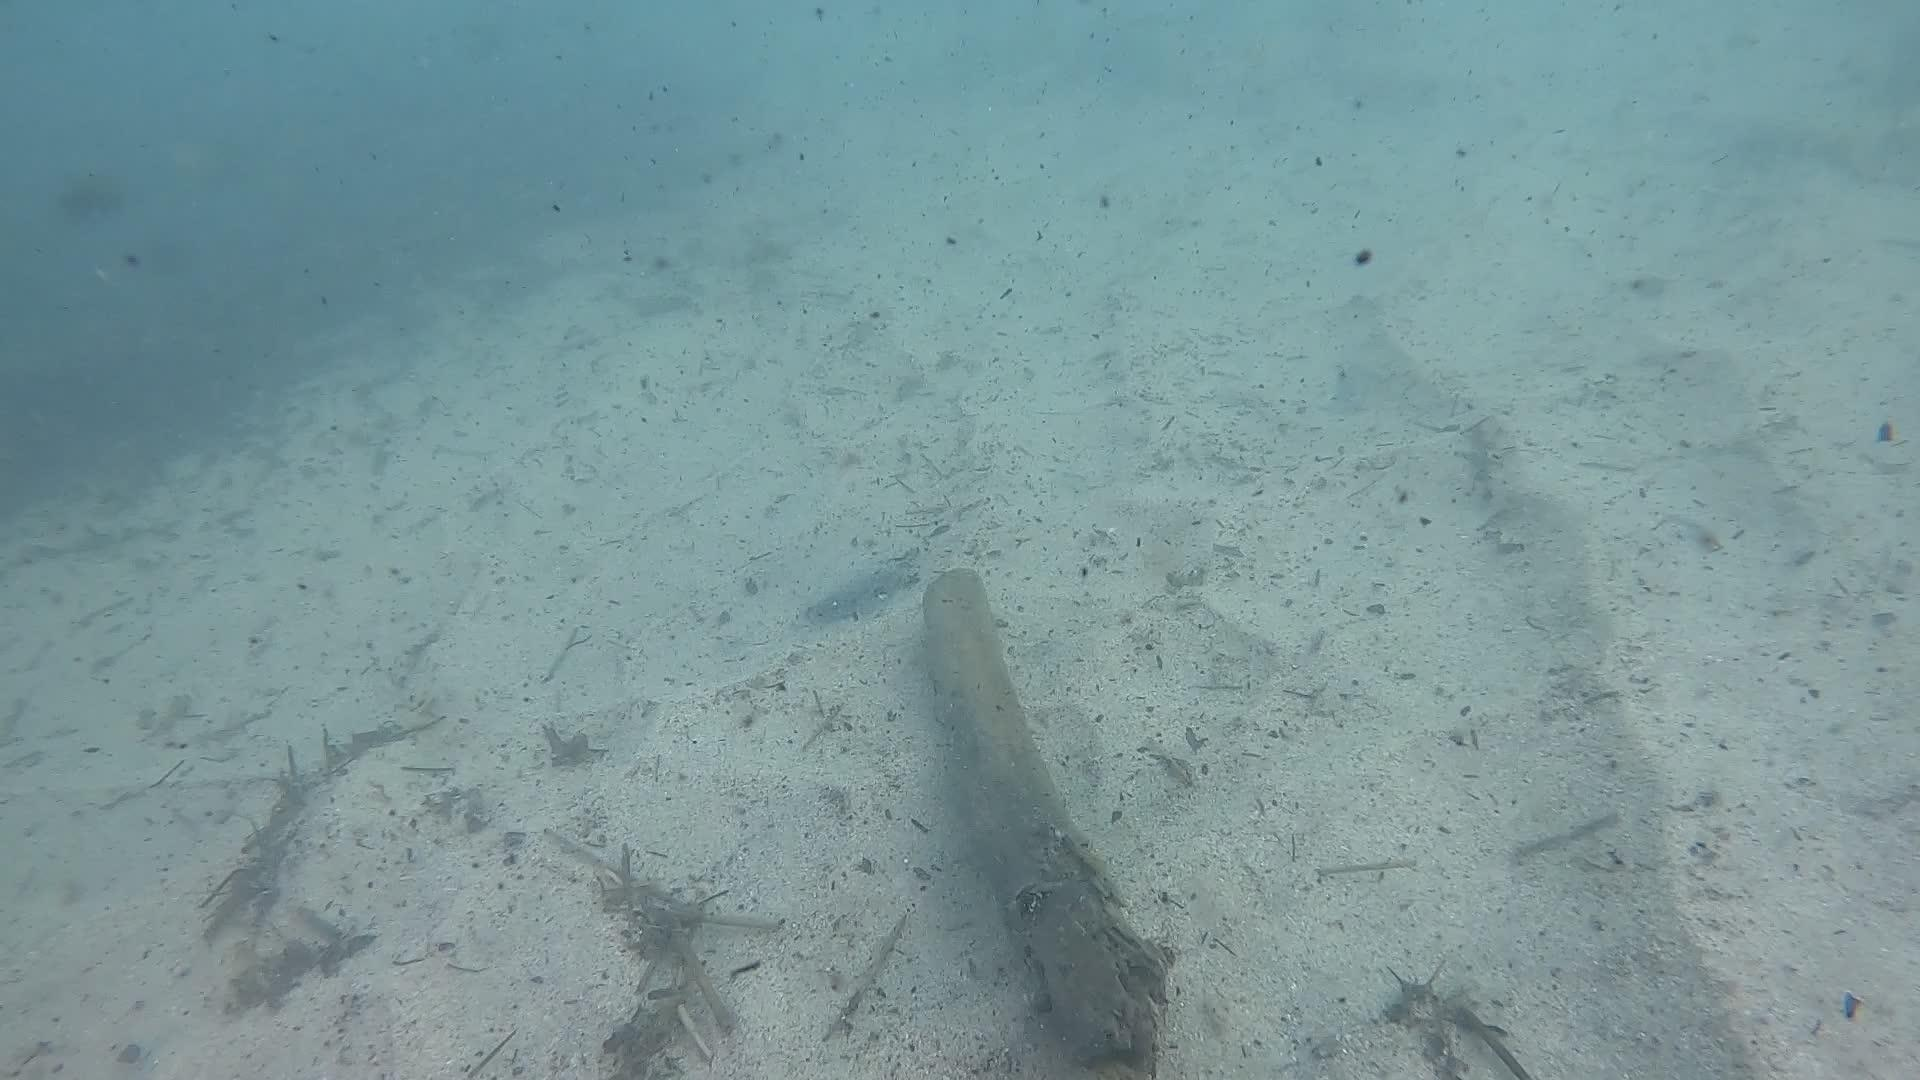wood: (920, 567, 1174, 1069)
